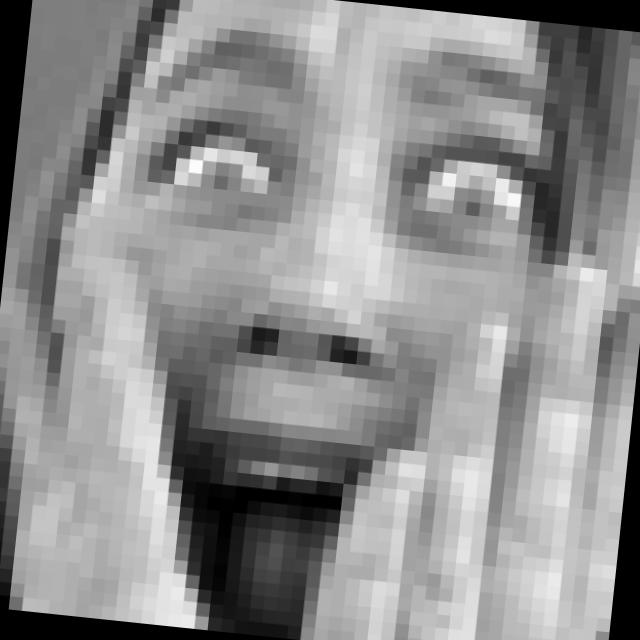fear: (86, 7, 567, 640)
